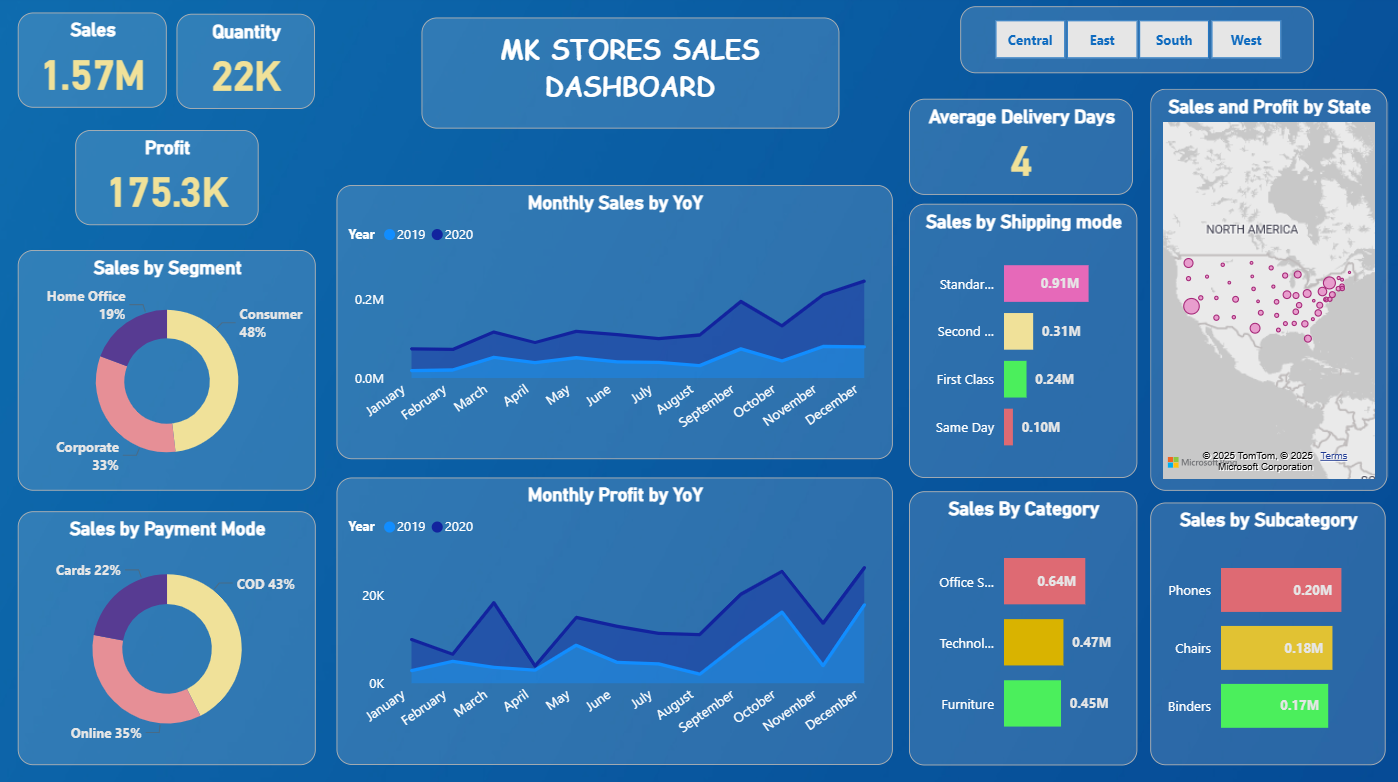

The dashboard page shown, as its layout file describes it:
{"tool":"powerbi","page":{"name":"Page 1","canvas":[1280,720],"ordinal":0},"visuals":[{"type":"clusteredBarChart","title":"Sales By Category","fields":{"Category":["SuperStore_Sales_Dataset.Category"],"Y":["Sum(SuperStore_Sales_Dataset.Sales)"]},"box":[830.2,450,207,248.8],"z":0},{"type":"clusteredBarChart","title":"Sales by Subcategory","fields":{"Category":["SuperStore_Sales_Dataset.Sub-Category"],"Y":["Sum(SuperStore_Sales_Dataset.Sales)"]},"box":[1048.9,460.4,213.6,238.5],"z":1000},{"type":"clusteredBarChart","title":"Sales by Shipping mode","fields":{"Category":["SuperStore_Sales_Dataset.Ship Mode"],"Y":["Sum(SuperStore_Sales_Dataset.Sales)"]},"box":[830.2,189.5,207,248.8],"z":2000},{"type":"stackedAreaChart","title":"Monthly Sales by YoY","fields":{"Y":["Sum(SuperStore_Sales_Dataset.Sales)"],"Category":["SuperStore_Sales_Dataset.Order Date.Variation.Date Hierarchy.Month","SuperStore_Sales_Dataset.Order Date.Variation.Date Hierarchy.Day"],"Series":["SuperStore_Sales_Dataset.Order Date.Variation.Date Hierarchy.Year"]},"box":[310.5,172.1,504.7,248.8],"z":3000},{"type":"stackedAreaChart","title":"Monthly Profit by YoY","fields":{"Category":["SuperStore_Sales_Dataset.Order Date.Variation.Date Hierarchy.Month","SuperStore_Sales_Dataset.Order Date.Variation.Date Hierarchy.Day"],"Series":["SuperStore_Sales_Dataset.Order Date.Variation.Date Hierarchy.Year"],"Y":["Sum(SuperStore_Sales_Dataset.Profit)"]},"box":[310.5,438.4,504.7,260.5],"z":4000},{"type":"map","title":"Sales and Profit by State","fields":{"Category":["SuperStore_Sales_Dataset.State"],"Size":["Sum(SuperStore_Sales_Dataset.Sales)"]},"box":[1048.8,84.9,215.1,365.1],"z":5000},{"type":"donutChart","title":"Sales by Segment","fields":{"Category":["SuperStore_Sales_Dataset.Segment"],"Y":["Sum(SuperStore_Sales_Dataset.Sales)"]},"box":[21.4,231.4,270.5,218.3],"z":6000},{"type":"donutChart","title":"Sales by Payment Mode","fields":{"Category":["SuperStore_Sales_Dataset.Payment Mode"],"Y":["Sum(SuperStore_Sales_Dataset.Sales)"]},"box":[21.4,468.7,270.5,230.2],"z":7000},{"type":"slicer","fields":{"Values":["SuperStore_Sales_Dataset.Region"]},"box":[876.7,10.5,320.9,60.5],"z":8000},{"type":"textbox","box":[388.4,20.9,379.1,101.2],"z":9000},{"type":"card","title":"Sales","fields":{"Values":["Sum(SuperStore_Sales_Dataset.Sales)"]},"box":[21.4,15.4,135.3,86.6],"z":10000},{"type":"card","title":"Quantity","fields":{"Values":["Sum(SuperStore_Sales_Dataset.Quantity)"]},"box":[166.1,16.6,125.8,86.6],"z":11000},{"type":"card","title":"Profit","fields":{"Values":["Sum(SuperStore_Sales_Dataset.Profit)"]},"box":[73.6,122.2,166.1,86.6],"z":12000},{"type":"card","title":"Average Delivery Days","fields":{"Values":["Avg(SuperStore_Sales_Dataset.Average Delivery Days)"]},"box":[830.2,94.2,203.5,87.2],"z":13000}]}

Visuals, with their boxes in screenshot pixels (x1, y1, x2, y2), scaled from the page's 1280x720 canvas onto the 1398x782 screenshot:
"Sales By Category" clusteredBarChart: (907,489,1133,759)
"Sales by Subcategory" clusteredBarChart: (1146,500,1379,759)
"Sales by Shipping mode" clusteredBarChart: (907,206,1133,476)
"Monthly Sales by YoY" stackedAreaChart: (339,187,890,457)
"Monthly Profit by YoY" stackedAreaChart: (339,476,890,759)
"Sales and Profit by State" map: (1145,92,1380,489)
"Sales by Segment" donutChart: (23,251,319,488)
"Sales by Payment Mode" donutChart: (23,509,319,759)
slicer - SuperStore_Sales_Dataset.Region: (958,11,1308,77)
textbox: (424,23,838,133)
"Sales" card: (23,17,171,111)
"Quantity" card: (181,18,319,112)
"Profit" card: (80,133,262,227)
"Average Delivery Days" card: (907,102,1129,197)
